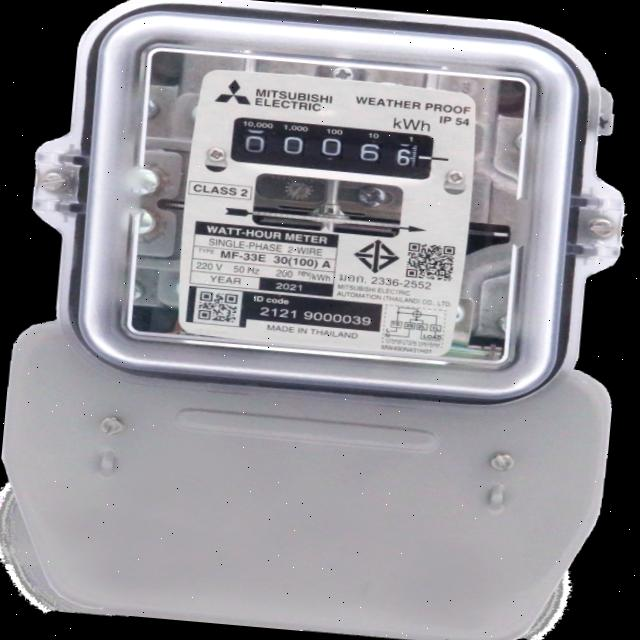digit_area: (233, 118, 432, 175)
